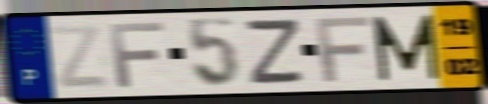5: (182, 15, 244, 90)
F: (312, 15, 373, 85), (107, 20, 167, 90)
M: (370, 13, 443, 84)
Z: (46, 22, 113, 91), (245, 16, 306, 87)
